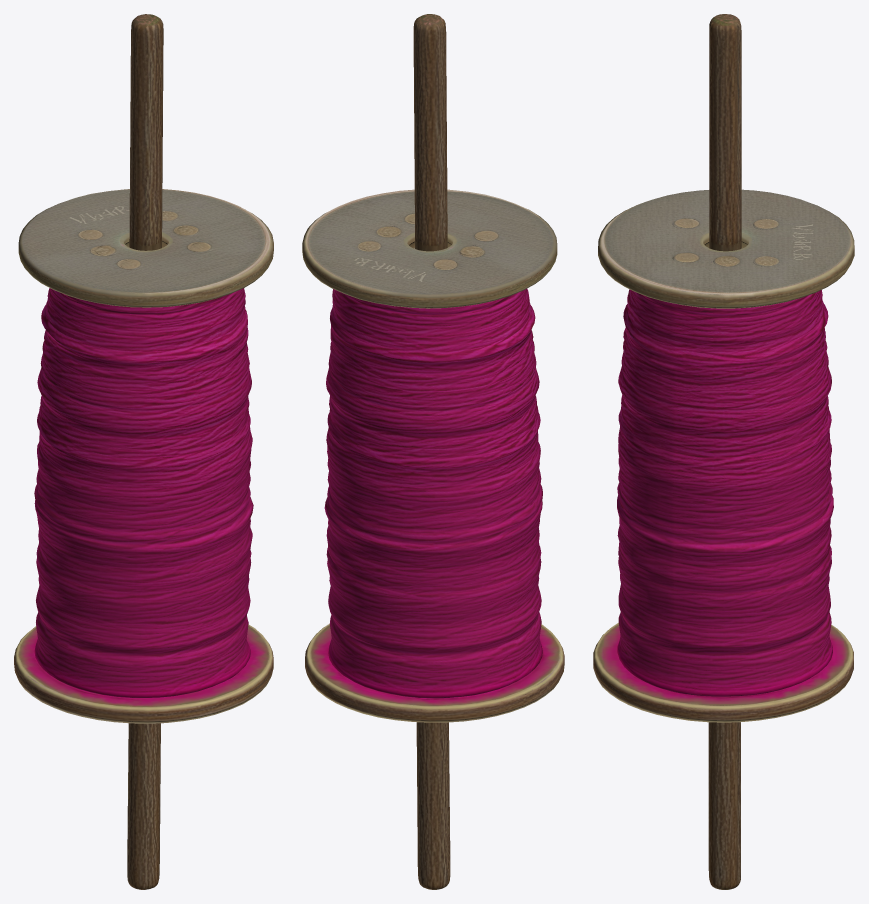
Rendered from pink thread spool 3d model.glb.
3 views of the same model, side by side, from view 1: azimuth 30°, elevation 25°; view 2: azimuth 150°, elevation 25°; view 3: azimuth 270°, elevation 25° (orthographic).
Visible parts, largest first — view 1: tripo_45707e8b_dea7_4b19_8ecb_0d7c65e307e8; view 2: tripo_45707e8b_dea7_4b19_8ecb_0d7c65e307e8; view 3: tripo_45707e8b_dea7_4b19_8ecb_0d7c65e307e8.
Part boxes in pixels (x1,y1,x2,y2): tripo_45707e8b_dea7_4b19_8ecb_0d7c65e307e8: (14, 14, 273, 889); tripo_45707e8b_dea7_4b19_8ecb_0d7c65e307e8: (302, 14, 564, 889); tripo_45707e8b_dea7_4b19_8ecb_0d7c65e307e8: (593, 14, 854, 889).
Bounding box in the file's own units: 0.2729 × 0.9995 × 0.272.
Materials: 1 (1 with a texture image).
